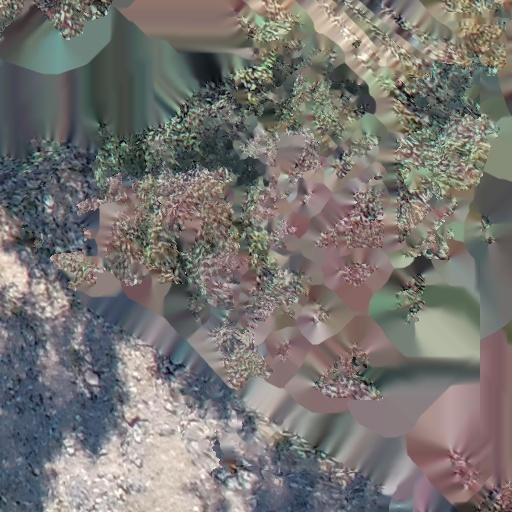rock: (83, 371, 99, 390), (123, 411, 139, 428), (67, 436, 75, 457), (82, 353, 94, 365), (132, 459, 144, 467)
